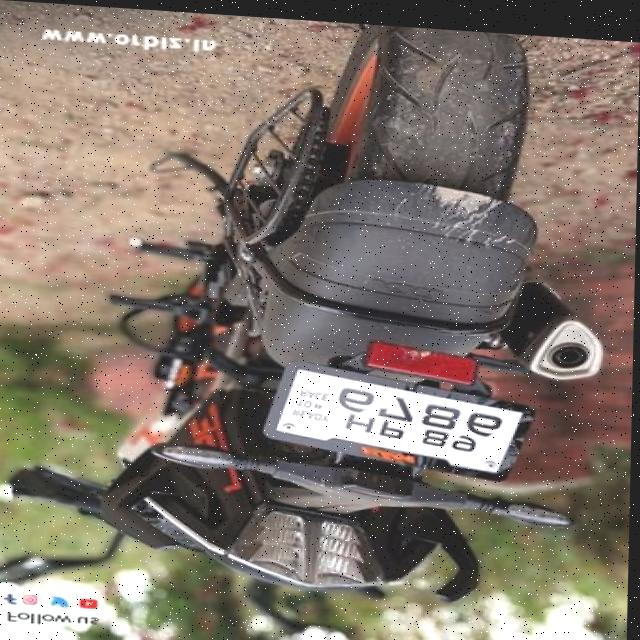plate: (278, 356, 523, 471)
